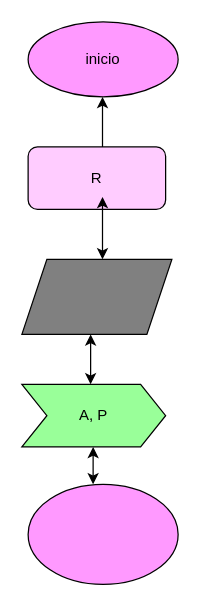
Image size: 200x606. Some labels were removed from this diagram. Each missing label, with the box of its shape:
A: II R* P; 2 II R: (21, 258, 172, 334)
FIN: (27, 483, 178, 584)
